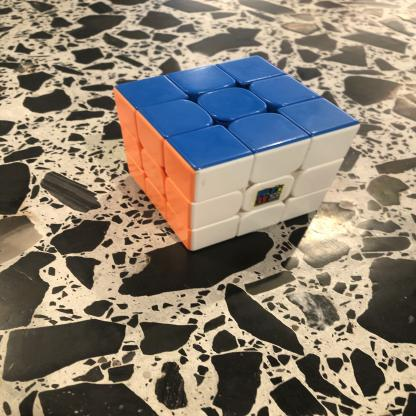SolvedCube: (105, 47, 359, 263)
